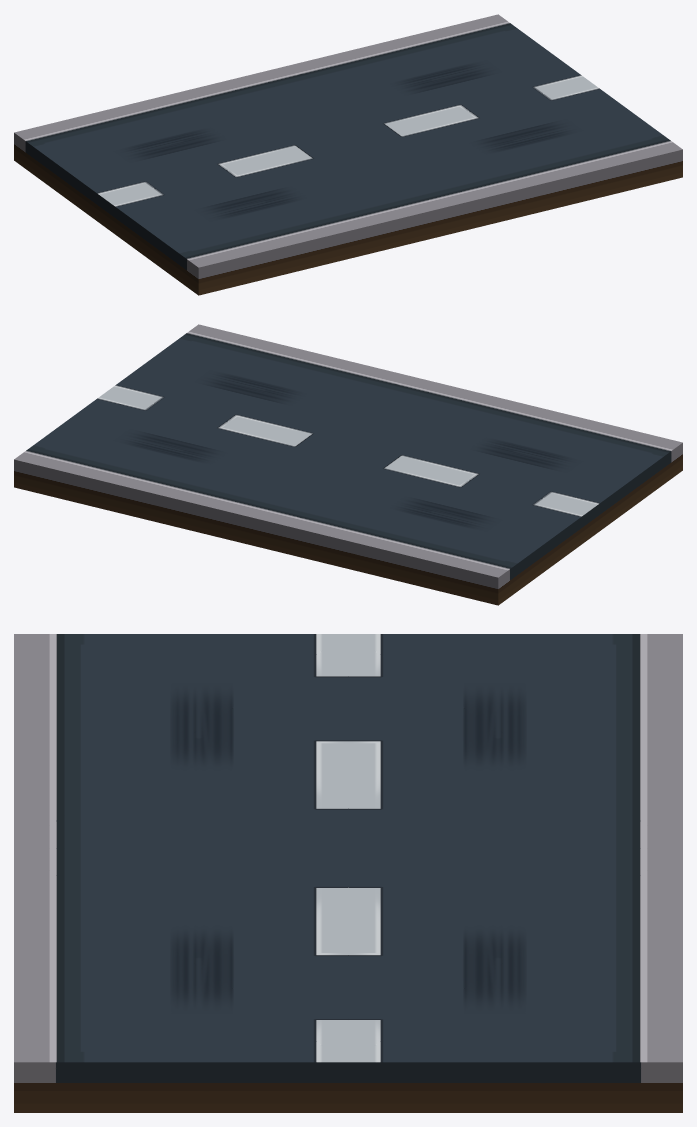
File: road_piece.fbx
3 renders of one model, top to bottom at view 1: azimuth 30°, elevation 25°; view 2: azimuth 150°, elevation 25°; view 3: azimuth 270°, elevation 25°, orthographic. The views are drawn at different scales.
Parts seen in each view (by area): view 1: road_piece_001; view 2: road_piece_001; view 3: road_piece_001.
Part boxes in pixels (box(x1,y1,x2,y2)): road_piece_001: box(14, 14, 682, 295); road_piece_001: box(14, 324, 682, 605); road_piece_001: box(14, 634, 682, 1112).
Size of the model in its own units: 10.64 by 0.5862 by 7.03.
